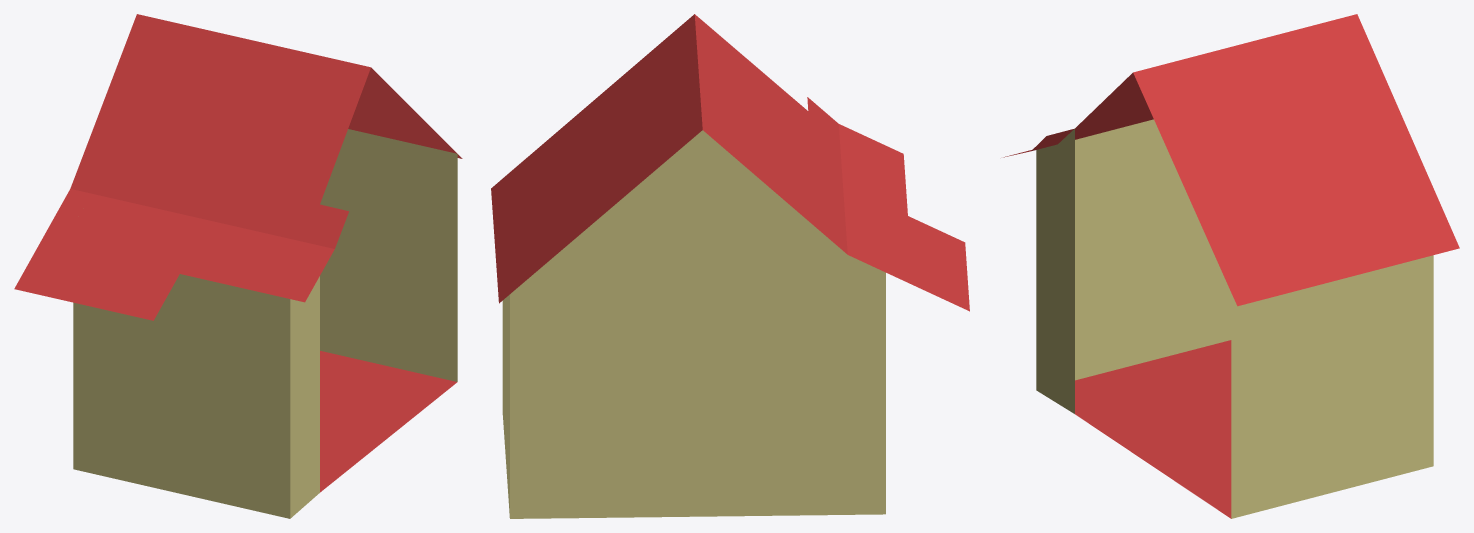
The picture shows the model from 3 angles, left to right: view 1: azimuth 30°, elevation 25°; view 2: azimuth 150°, elevation 25°; view 3: azimuth 270°, elevation 25°; orthographic projection. The views are drawn at different scales.
Bounding box in the file's own units: 15.94 × 14.11 × 12.84.
